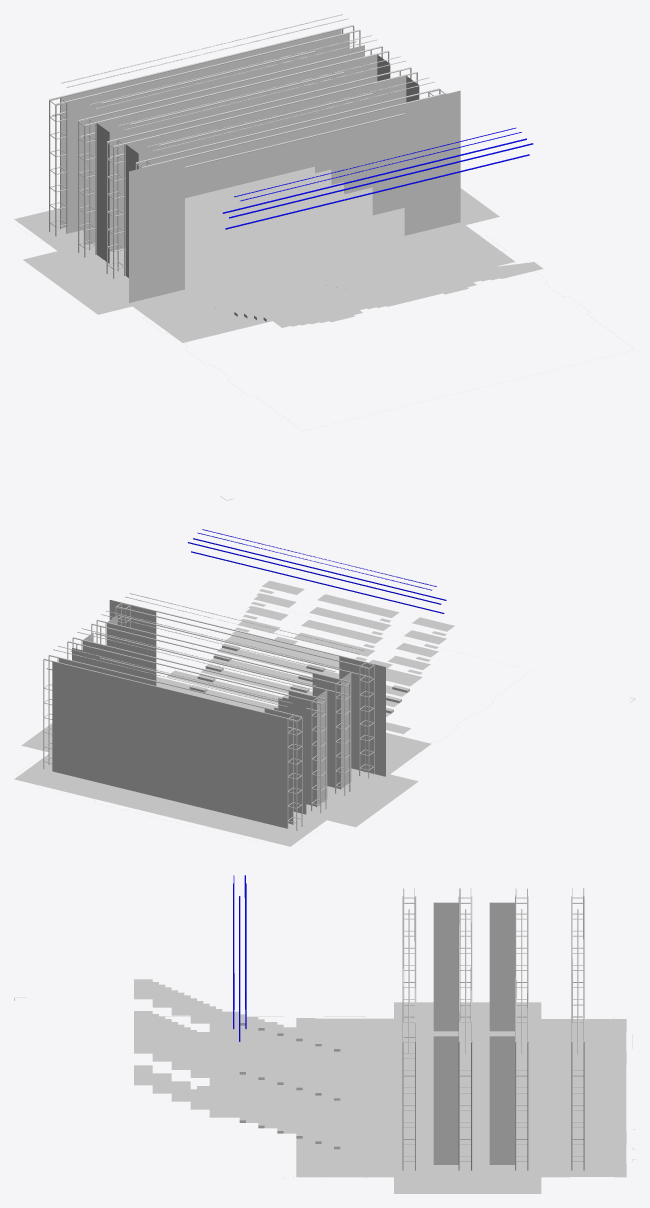
The model's file is irongate_set.obj.
3 views of the same model, one above another, from view 1: azimuth 30°, elevation 25°; view 2: azimuth 150°, elevation 25°; view 3: azimuth 270°, elevation 25° (orthographic). The views are drawn at different scales.
Visible parts, largest first — view 1: Mesh2 Model, Mesh134 Model, Mesh12 Model, Mesh208 Model, Mesh207 Model, Mesh67 Model, Mesh11 Model, Mesh51 Model, Mesh14 Model, Mesh13 Model, Mesh42 Model, Mesh22 Model; view 2: Mesh134 Model, Mesh2 Model, Mesh12 Model, Mesh207 Model, Mesh14 Model, Mesh67 Model, Mesh11 Model, Mesh42 Model, Mesh13 Model, Mesh22 Model, Mesh18 Model, Mesh20 Model (+1 smaller); view 3: Mesh2 Model, Mesh12 Model, Mesh11 Model, Mesh67 Model, Mesh51 Model, Mesh13 Model, Mesh42 Model, Mesh14 Model, Mesh134 Model, Mesh20 Model, Mesh15 Model, Mesh18 Model (+1 smaller).
Part boxes in pixels (box(x1,y1,x2,y2)): Mesh2 Model: box(14, 47, 633, 430); Mesh134 Model: box(49, 26, 360, 236); Mesh12 Model: box(267, 262, 495, 327); Mesh208 Model: box(331, 45, 364, 184); Mesh207 Model: box(83, 105, 117, 244); Mesh67 Model: box(197, 248, 490, 324); Mesh11 Model: box(188, 246, 475, 322); Mesh51 Model: box(178, 244, 465, 320); Mesh14 Model: box(257, 260, 486, 321); Mesh13 Model: box(238, 257, 466, 318); Mesh42 Model: box(248, 259, 476, 320); Mesh22 Model: box(378, 278, 476, 306); Mesh134 Model: box(43, 656, 302, 830); Mesh2 Model: box(14, 600, 531, 846); Mesh12 Model: box(225, 632, 422, 686); Mesh207 Model: box(278, 698, 306, 814); Mesh14 Model: box(217, 643, 409, 696); Mesh67 Model: box(167, 670, 410, 734); Mesh11 Model: box(159, 681, 402, 744); Mesh42 Model: box(209, 655, 401, 706); Mesh13 Model: box(201, 664, 393, 717); Mesh22 Model: box(317, 594, 398, 617); Mesh18 Model: box(301, 620, 382, 643); Mesh20 Model: box(309, 607, 391, 630); Mesh2 Model: box(157, 897, 635, 1193); Mesh12 Model: box(197, 1011, 239, 1117); Mesh11 Model: box(315, 1023, 333, 1158); Mesh67 Model: box(296, 1018, 315, 1153); Mesh51 Model: box(334, 1028, 352, 1163); Mesh13 Model: box(277, 1024, 296, 1133); Mesh42 Model: box(258, 1019, 277, 1128); Mesh14 Model: box(239, 1014, 258, 1122); Mesh134 Model: box(571, 897, 584, 1170); Mesh20 Model: box(152, 1019, 171, 1061); Mesh15 Model: box(190, 1035, 209, 1077); Mesh18 Model: box(171, 1027, 190, 1069).
Bounding box in the file's own units: 1004 × 383 × 1183.
